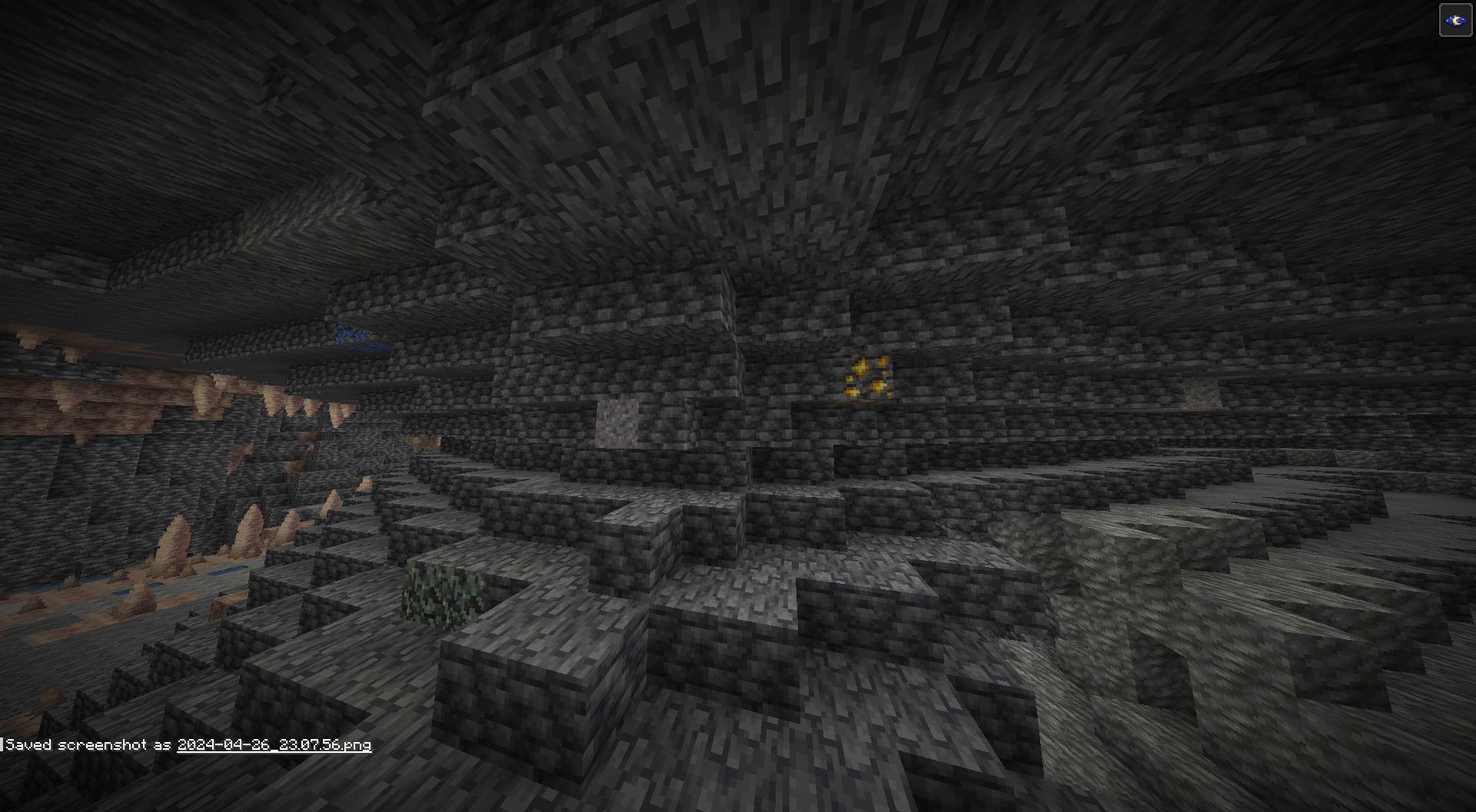gold ore: (846, 353, 893, 396)
